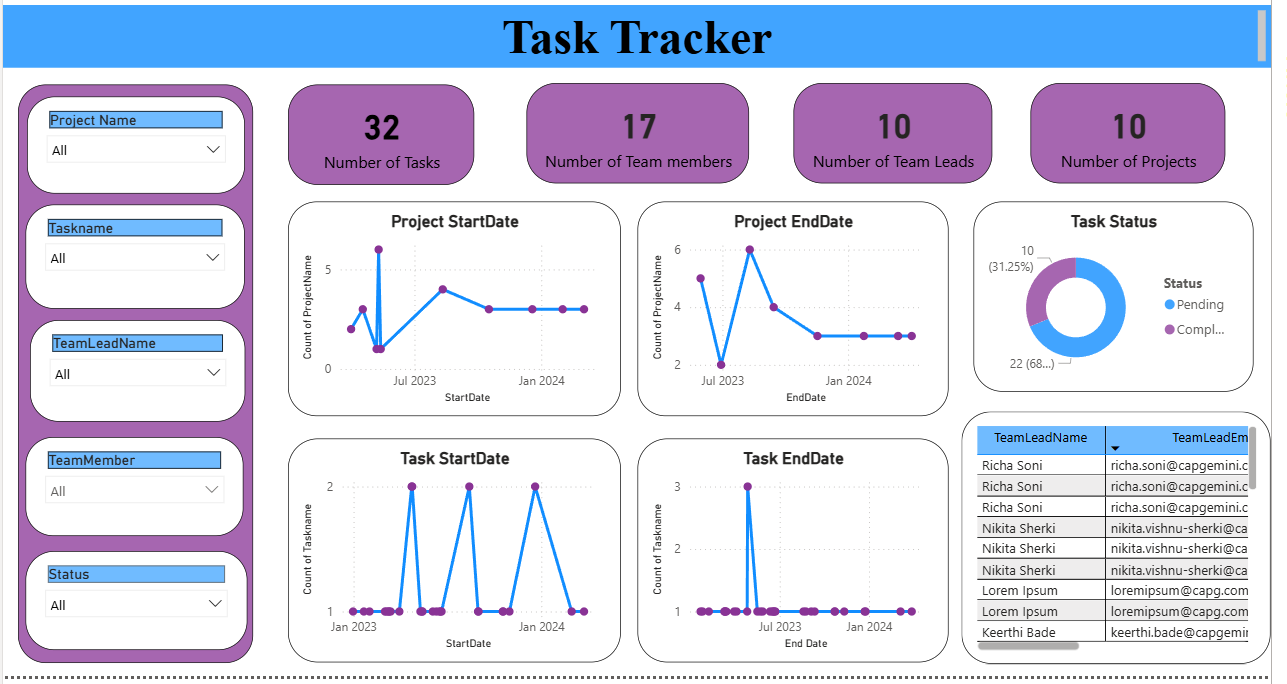

The page's visual inventory and layout, read from the dashboard file:
{"tool":"powerbi","page":{"name":"Page 1","canvas":[1280,720],"ordinal":0},"visuals":[{"type":"card","fields":{"Values":["Count(Project Details.ProjectName)"]},"box":[1037.8,121,196.8,101.5],"z":0},{"type":"card","fields":{"Values":["Count(Project Details.TeamLeadName)"]},"box":[798.2,121,200.5,101.5],"z":1000},{"type":"card","fields":{"Values":["Count(Project Details.TeamMemberName)"]},"box":[528.1,121,224.9,101.5],"z":2000},{"type":"lineChart","title":"Project StartDate","fields":{"Category":["Project Details.StartDate"],"Y":["CountNonNull(Project Details.ProjectName)"]},"box":[287.3,240.8,336.2,216.4],"z":3000},{"type":"lineChart","title":"Project EndDate","fields":{"Category":["Project Details.EndDate"],"Y":["CountNonNull(Project Details.ProjectName)"]},"box":[640.5,240.8,314.2,216.4],"z":4000},{"type":"lineChart","title":"Task StartDate","fields":{"Category":["Tasklist.StartDate"],"Y":["CountNonNull(Tasklist.Taskname)"]},"box":[287.3,480.4,336.2,226.1],"z":5000},{"type":"lineChart","title":"Task EndDate","fields":{"Category":["Tasklist.End Date"],"Y":["CountNonNull(Tasklist.Taskname)"]},"box":[640.5,480.4,314.2,226.1],"z":6000},{"type":"card","fields":{"Values":["Count(Tasklist.Taskname)"]},"box":[287.3,122.2,188.3,101.5],"z":7000},{"type":"textbox","box":[0,42.8,1279.9,63.6],"z":8000},{"type":"donutChart","title":"Task Status","fields":{"Category":["Tasklist.Status"],"Y":["CountNonNull(Tasklist.Status)"]},"box":[980.4,240.8,282.4,191.9],"z":9000},{"type":"tableEx","fields":{"Values":["Tasklist.TeamLeadName","Tasklist.TeamLeadEmail","Project Details.TeamMemberName","Project Details.TeamMemberEmail"]},"box":[967.6,452.7,311.9,254.4],"z":10000},{"type":"textbox","box":[14.7,122.2,237.1,584.3],"z":11000},{"type":"slicer","fields":{"Values":["Project Details.ProjectName"]},"box":[24.4,134.5,220,97.8],"z":12000},{"type":"slicer","fields":{"Values":["Tasklist.Taskname"]},"box":[23.2,244.5,221.3,105.1],"z":13000},{"type":"slicer","fields":{"Values":["Tasklist.TeamLeadName"]},"box":[26.9,360.6,217.6,102.7],"z":14000},{"type":"slicer","fields":{"Values":["Tasklist.TeamMember"]},"box":[22,479.2,220,100.2],"z":15000},{"type":"slicer","fields":{"Values":["Tasklist.Status"]},"box":[22,594.1,223.7,100.2],"z":16000}]}

Visuals, with their boxes in screenshot pixels (x1, y1, x2, y2):
card - Count(Project Details.ProjectName): 1041/78/1239/180
card - Count(Project Details.TeamLeadName): 800/78/1002/180
card - Count(Project Details.TeamMemberName): 528/78/755/180
"Project StartDate" lineChart: 286/199/624/417
"Project EndDate" lineChart: 641/199/958/417
"Task StartDate" lineChart: 286/440/624/668
"Task EndDate" lineChart: 641/440/958/668
card - Count(Tasklist.Taskname): 286/79/475/182
textbox: 0/0/1285/64
"Task Status" donutChart: 984/199/1268/392
tableEx - Tasklist.TeamLeadName x Tasklist.TeamLeadEmail: 971/412/1285/668
textbox: 11/79/250/668
slicer - Project Details.ProjectName: 21/92/243/190
slicer - Tasklist.Taskname: 20/203/243/308
slicer - Tasklist.TeamLeadName: 24/319/243/423
slicer - Tasklist.TeamMember: 19/439/240/540
slicer - Tasklist.Status: 19/554/244/655
